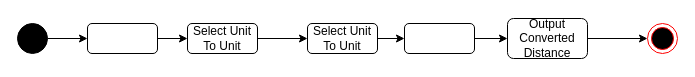
This 695x77 diagram has some shape labels left out. Each missing label, with the centre of its shape:
"Convert Distance" goes at (439,38).
"Select Unit From Unit" goes at (122,38).
